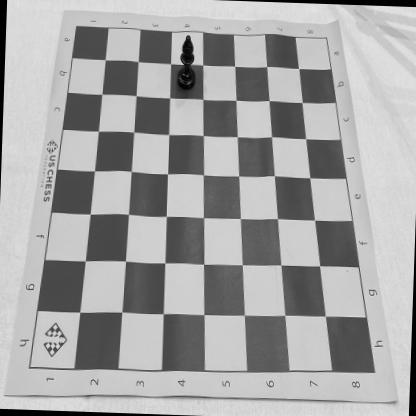bishop: (176, 34, 198, 92)
